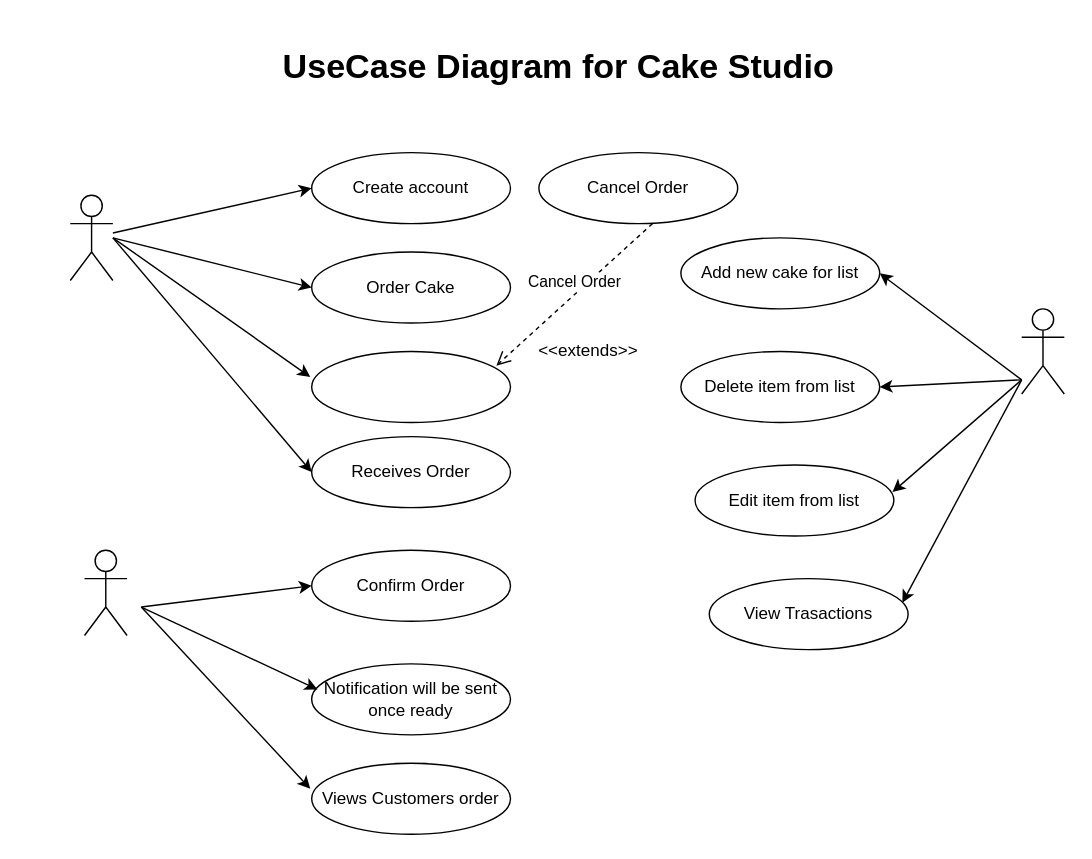
Image size: 1092x859. Some labels were removed from this diagram. The shapes that lost their labels are listed below. From the top down, each one's box as (x1, y1, x2, y2) in pixels, then its label:
(69, 194, 113, 280): Customer
(1020, 307, 1064, 394): Admin
(310, 350, 510, 422): Payment
(83, 549, 127, 635): Restaurant Employee
